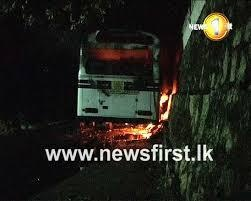fire: (158, 78, 179, 120)
